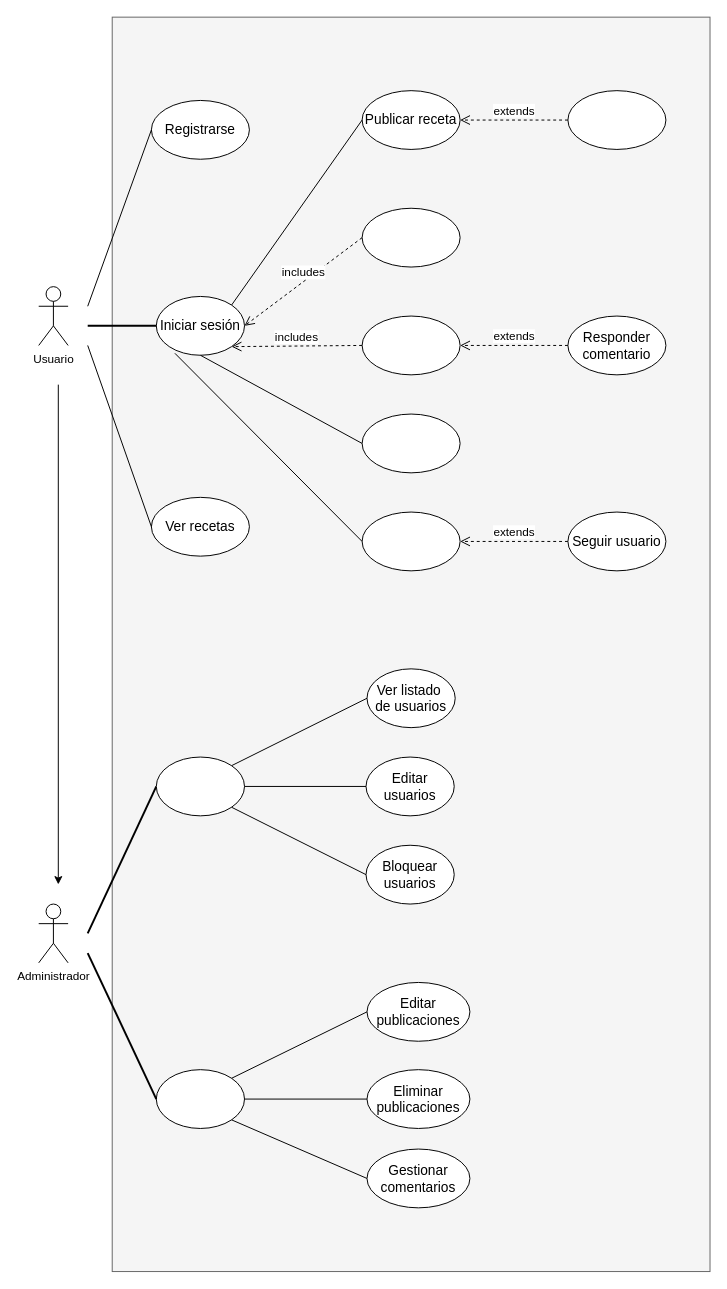
Image size: 727x1289. Some labels were removed from this diagram. The centre of each missing label's shape, as x and y in pixels:
Comentar receta: (410,345)
Editar perfil: (410,443)
Editar receta: (616,119)
Gestionar contenido: (200,1098)
Gestionar usuarios: (200,786)
Guardar recetas: (410,237)
Ver perfiles de usuarios: (410,541)
